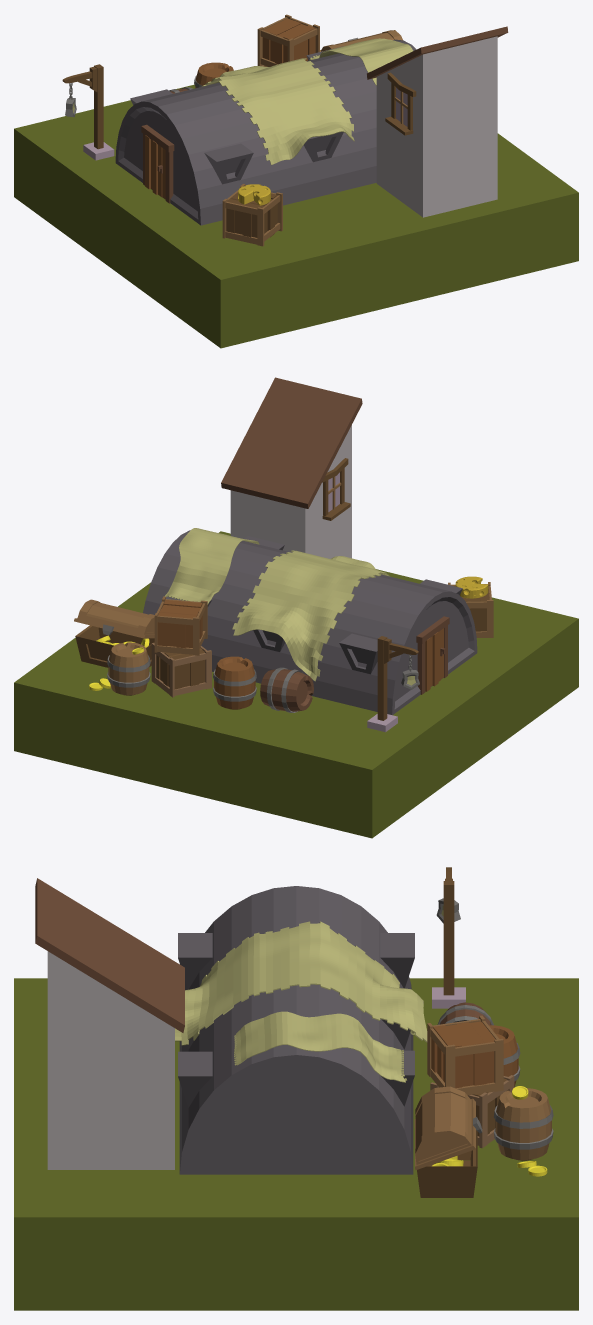
File: 仓库导出.fbx
The picture shows the model from 3 angles, top to bottom: view 1: azimuth 30°, elevation 25°; view 2: azimuth 150°, elevation 25°; view 3: azimuth 270°, elevation 25°; orthographic projection. The views are drawn at different scales.
Parts seen in each view (by area): view 1: 底座, 柱体, 立方体, 平面.001, 平面.002, 立方体.011, 立方体.018, 立方体.017, 立方体.005, 立方体.010, 立方体.012, 立方体.008 (+6 smaller); view 2: 底座, 柱体, 立方体.010, 平面.001, 立方体, 平面.002, 柱体.010, 柱体.001, 柱体.011, 柱体.002, 立方体.011, 柱体.003 (+7 smaller); view 3: 底座, 柱体, 立方体, 平面.001, 立方体.010, 平面.002, 柱体.002, 柱体.011, 立方体.011, 立方体.012, 柱体.003, 立方体.006 (+8 smaller).
Part boxes in pixels (x1,y1,x2,y2): 底座: [14, 84, 578, 348]; 柱体: [115, 39, 416, 225]; 立方体: [376, 36, 497, 217]; 平面.001: [201, 58, 354, 164]; 平面.002: [310, 38, 413, 85]; 立方体.011: [262, 18, 315, 64]; 立方体.018: [222, 184, 282, 246]; 立方体.017: [226, 193, 277, 237]; 立方体.005: [204, 143, 253, 184]; 立方体.010: [367, 26, 508, 79]; 立方体.012: [257, 14, 319, 66]; 立方体.008: [145, 135, 165, 199]; 底座: [14, 531, 578, 838]; 柱体: [143, 530, 477, 715]; 立方体.010: [221, 377, 362, 508]; 平面.001: [232, 550, 389, 681]; 立方体: [230, 425, 351, 558]; 平面.002: [164, 528, 259, 604]; 柱体.010: [260, 667, 313, 712]; 柱体.001: [213, 656, 256, 709]; 柱体.011: [107, 642, 150, 695]; 柱体.002: [74, 599, 154, 638]; 立方体.011: [157, 600, 202, 647]; 柱体.003: [75, 625, 154, 667]; 底座: [14, 978, 578, 1310]; 柱体: [179, 886, 413, 1174]; 立方体: [47, 951, 174, 1169]; 平面.001: [175, 921, 427, 1045]; 立方体.010: [35, 878, 184, 1032]; 平面.002: [234, 1011, 407, 1082]; 柱体.002: [414, 1086, 475, 1170]; 柱体.011: [493, 1088, 553, 1160]; 立方体.011: [431, 1021, 495, 1088]; 立方体.012: [427, 1015, 503, 1095]; 柱体.003: [417, 1130, 477, 1197]; 立方体.006: [178, 1051, 212, 1107].
Bounding box in the file's own units: 484 × 314 × 484.
